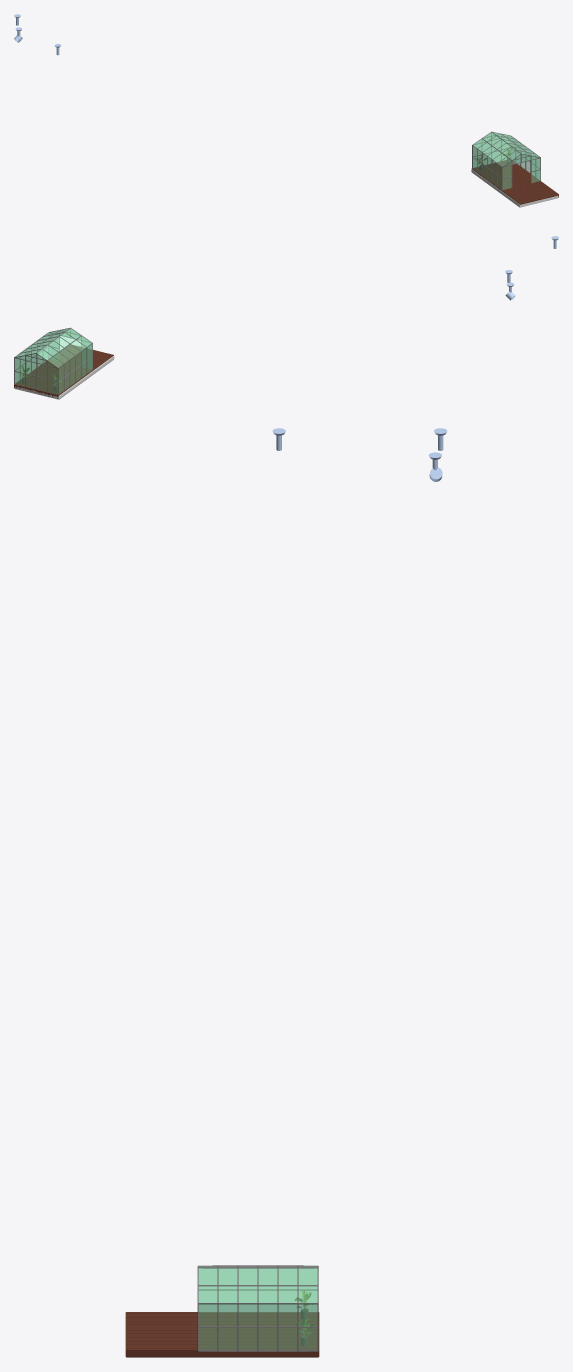
Rendered from floraOBJcomprimido2.glb.
The picture shows the model from 3 angles, top to bottom: view 1: azimuth 30°, elevation 25°; view 2: azimuth 150°, elevation 25°; view 3: azimuth 270°, elevation 25°; orthographic projection. The views are drawn at different scales.
Visible parts, largest first — view 1: Greenhouse, Plano.002, Plano; view 2: Greenhouse, Plano.002, Plano; view 3: Greenhouse, Plano.002.
Boxes of the visible parts, box(x1,y1,x2,y2) form: Greenhouse: box(472, 131, 540, 190); Plano.002: box(471, 160, 558, 204); Plano: box(471, 169, 558, 207); Greenhouse: box(14, 327, 92, 394); Plano.002: box(14, 345, 113, 398); Plano: box(14, 356, 114, 399); Greenhouse: box(197, 1265, 318, 1351); Plano.002: box(125, 1312, 319, 1357).
Size of the model in its own units: 79.06 by 38.47 by 23.58.
